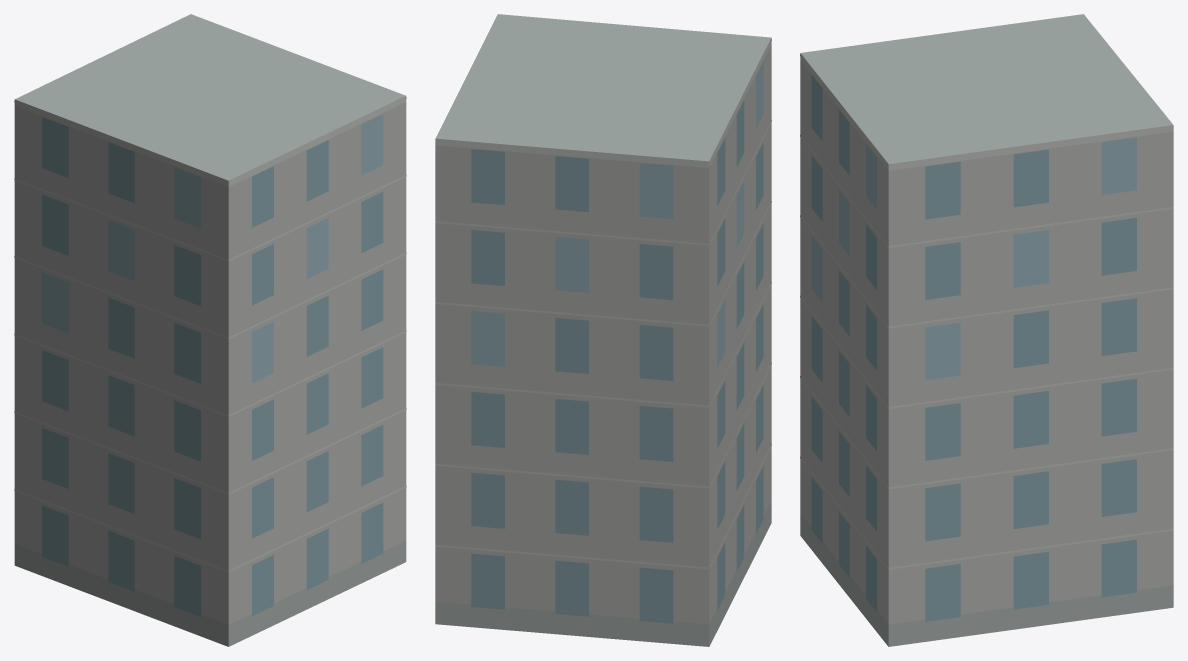
File: survey-upis-32964084.glb
The picture shows the model from 3 angles, left to right: view 1: azimuth 30°, elevation 25°; view 2: azimuth 150°, elevation 25°; view 3: azimuth 270°, elevation 25°; orthographic projection. The views are drawn at different scales.
Visible parts, largest first — view 1: survey-upis-32964084.tmp; view 2: survey-upis-32964084.tmp; view 3: survey-upis-32964084.tmp.
Boxes of the visible parts, x1,y1,x2,y2 form: survey-upis-32964084.tmp: (14,14,406,646); survey-upis-32964084.tmp: (435,14,771,646); survey-upis-32964084.tmp: (800,14,1173,646).
Bounding box in the file's own units: 11.7 × 17.5 × 12.29.
